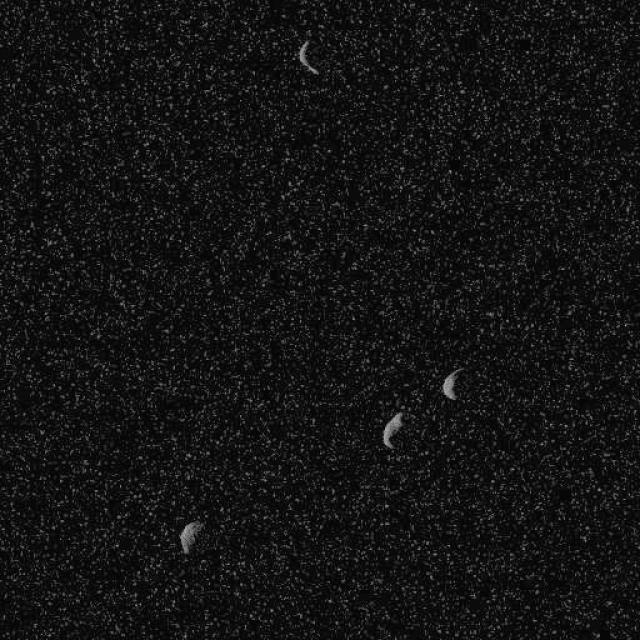D2: (178, 518, 204, 554), (381, 410, 404, 449), (296, 37, 319, 75), (440, 366, 462, 400)
